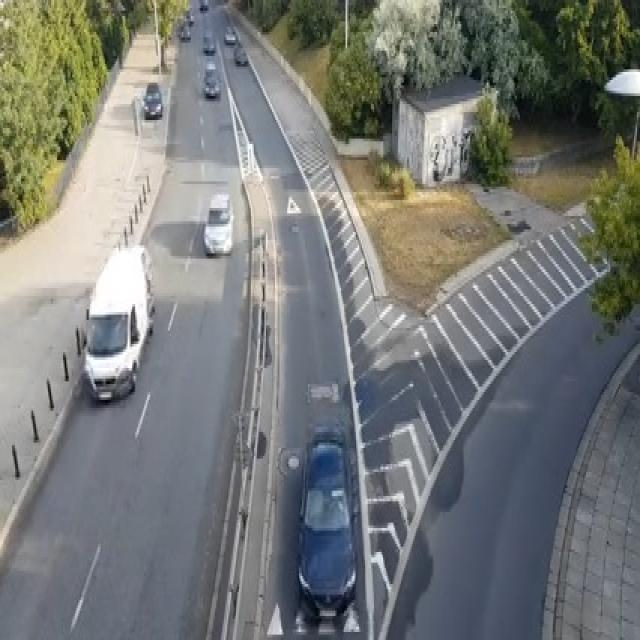car: (296, 424, 356, 619), (203, 192, 233, 256), (143, 80, 162, 117), (203, 59, 219, 96), (233, 43, 248, 64), (203, 30, 215, 54), (204, 59, 217, 80), (224, 24, 236, 43), (180, 24, 191, 40), (185, 8, 194, 24), (198, 0, 208, 11)
truck: (82, 242, 154, 402)
